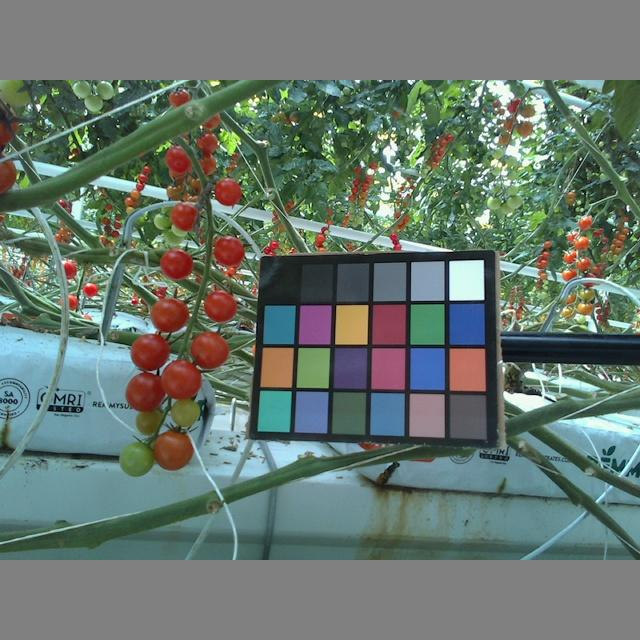green: (119, 440, 154, 477), (169, 399, 202, 427), (133, 409, 166, 433)
pink: (159, 358, 203, 401), (152, 426, 194, 468), (126, 371, 168, 411), (188, 331, 231, 370), (130, 332, 172, 371), (151, 298, 190, 333), (209, 233, 246, 268), (158, 249, 195, 280), (204, 291, 239, 322), (167, 201, 199, 231), (163, 148, 197, 174), (214, 178, 242, 206)
